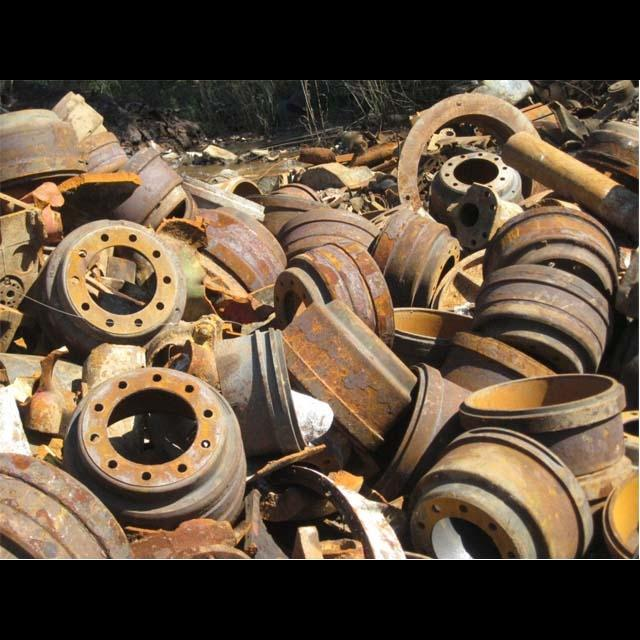metal: (66, 358, 253, 535), (261, 287, 434, 460), (406, 423, 614, 559), (451, 363, 635, 515), (35, 211, 195, 351), (487, 119, 639, 255), (458, 258, 620, 372), (473, 194, 630, 304), (263, 235, 403, 353), (177, 195, 302, 298), (350, 202, 473, 301), (87, 136, 201, 238), (426, 141, 536, 231), (271, 190, 385, 268), (440, 177, 549, 251), (0, 104, 94, 188)
